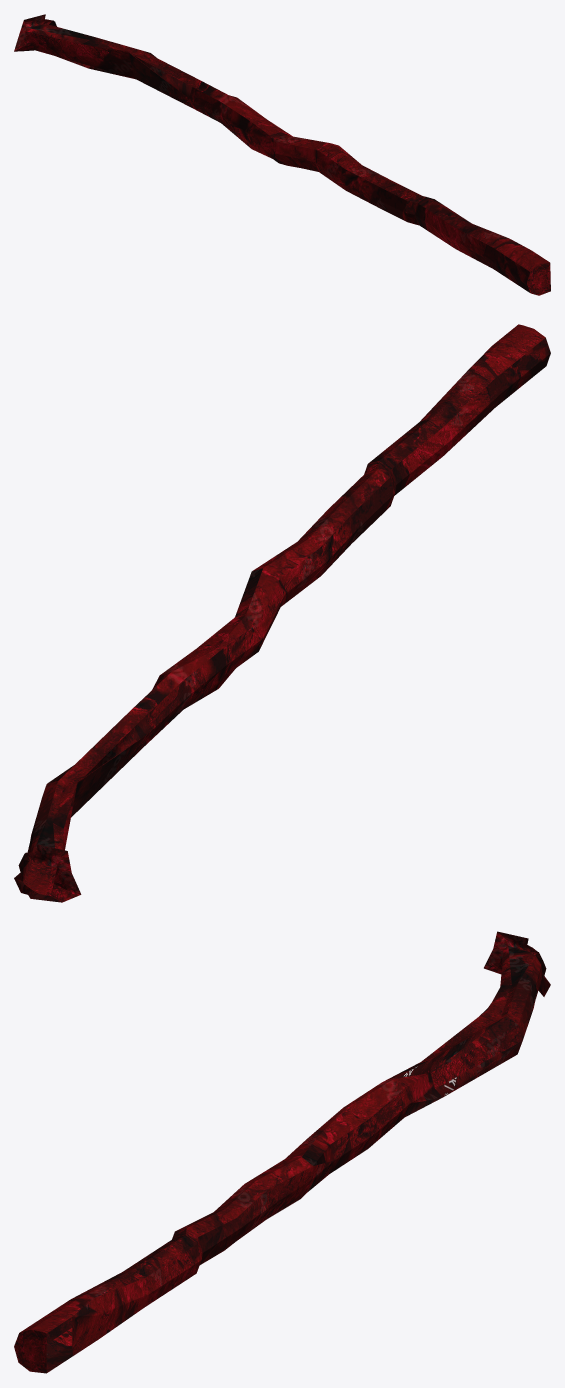
File: 24_tunnel V2.fbx
3 renders of one model, top to bottom at view 1: azimuth 30°, elevation 25°; view 2: azimuth 150°, elevation 25°; view 3: azimuth 330°, elevation 25°, orthographic. The views are drawn at different scales.
Visible parts, largest first — view 1: tunnel; view 2: tunnel; view 3: tunnel.
Boxes of the visible parts, x1,y1,x2,y2 form: tunnel: (14, 14, 550, 295); tunnel: (14, 324, 550, 902); tunnel: (14, 931, 550, 1373).
Size of the model in its own units: 14.47 by 10.6 by 98.36.
